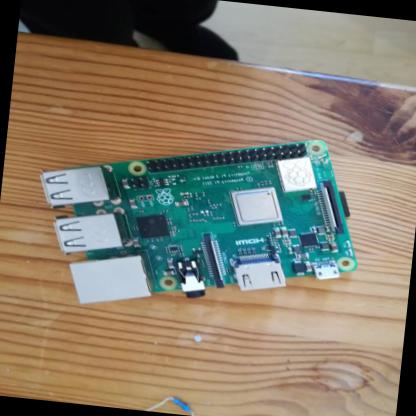Raspberry_Pi_3: (23, 104, 370, 336)
